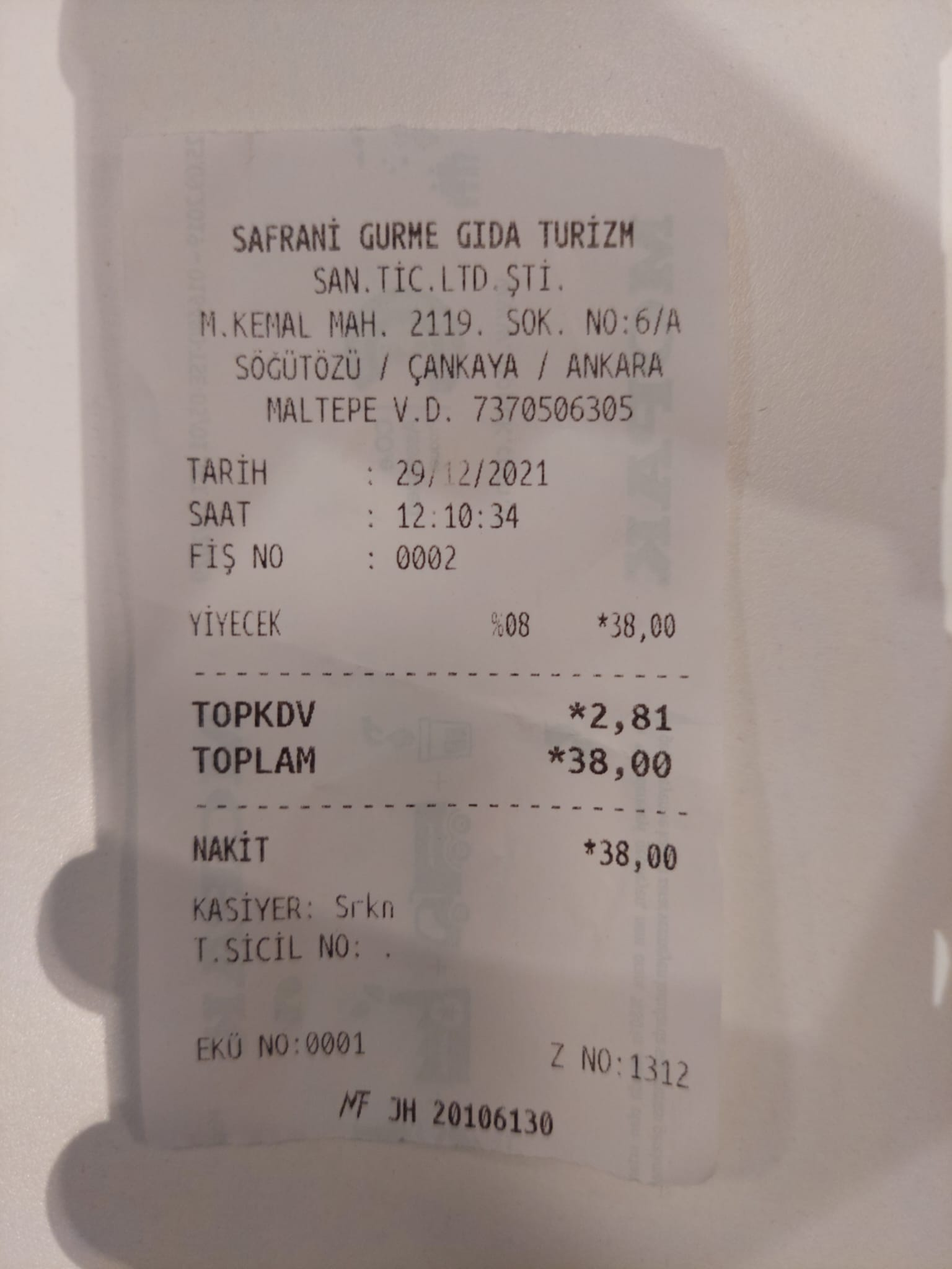date: (565, 733, 682, 798)
price: (384, 448, 559, 496)
workplace: (185, 203, 707, 389)
